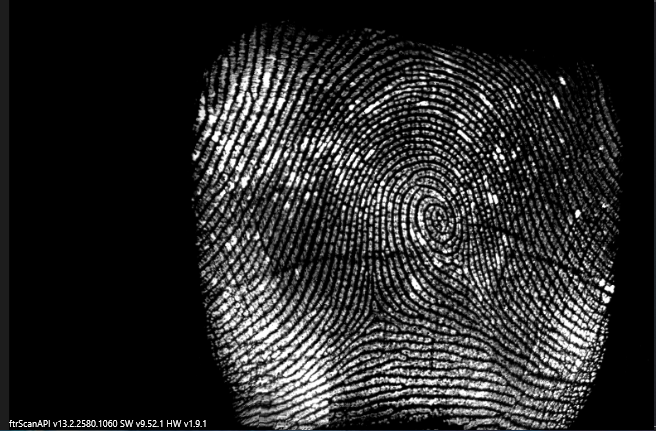deltas: (357, 295, 399, 340)
nucleo: (409, 187, 462, 239)
